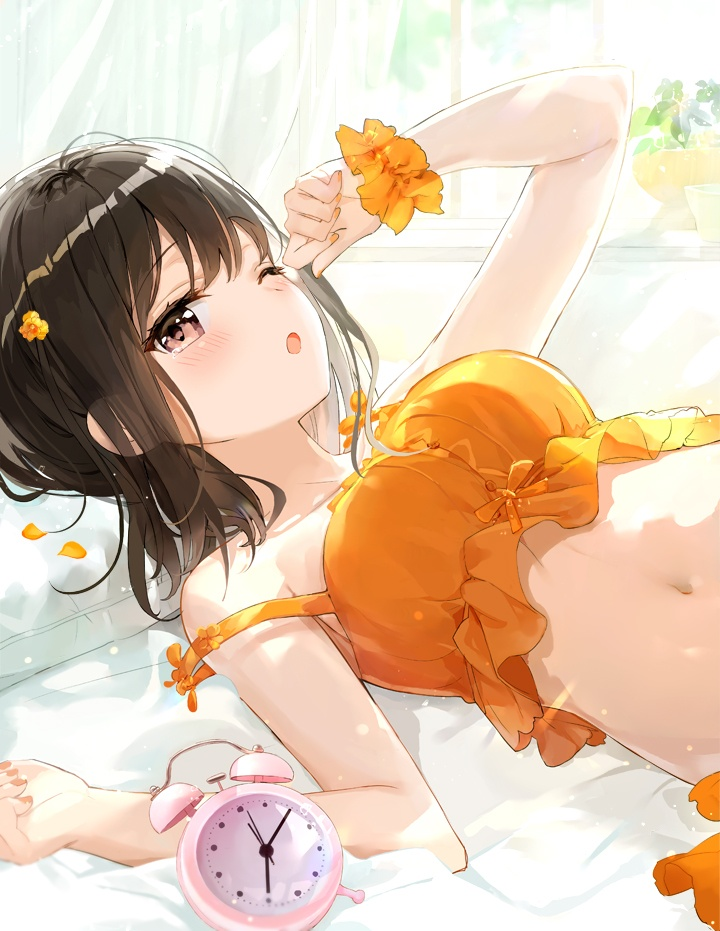纸片人正脸: (0, 133, 342, 471), (177, 777, 345, 916)
